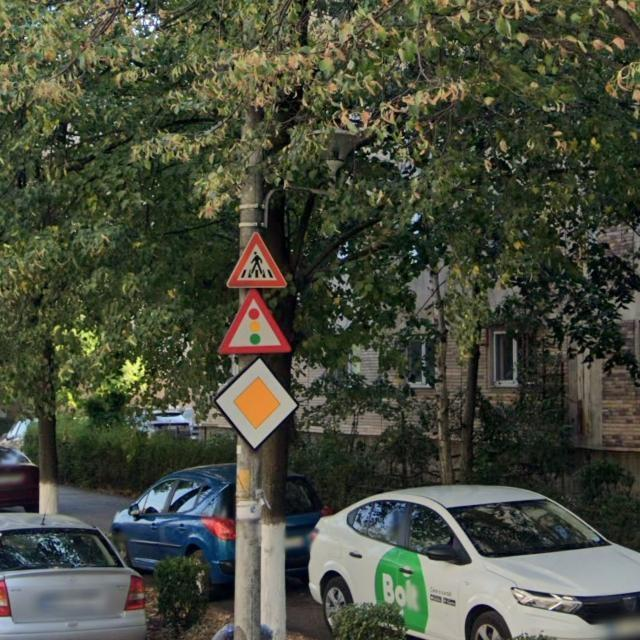warn_crosswalk: (225, 232, 294, 290)
